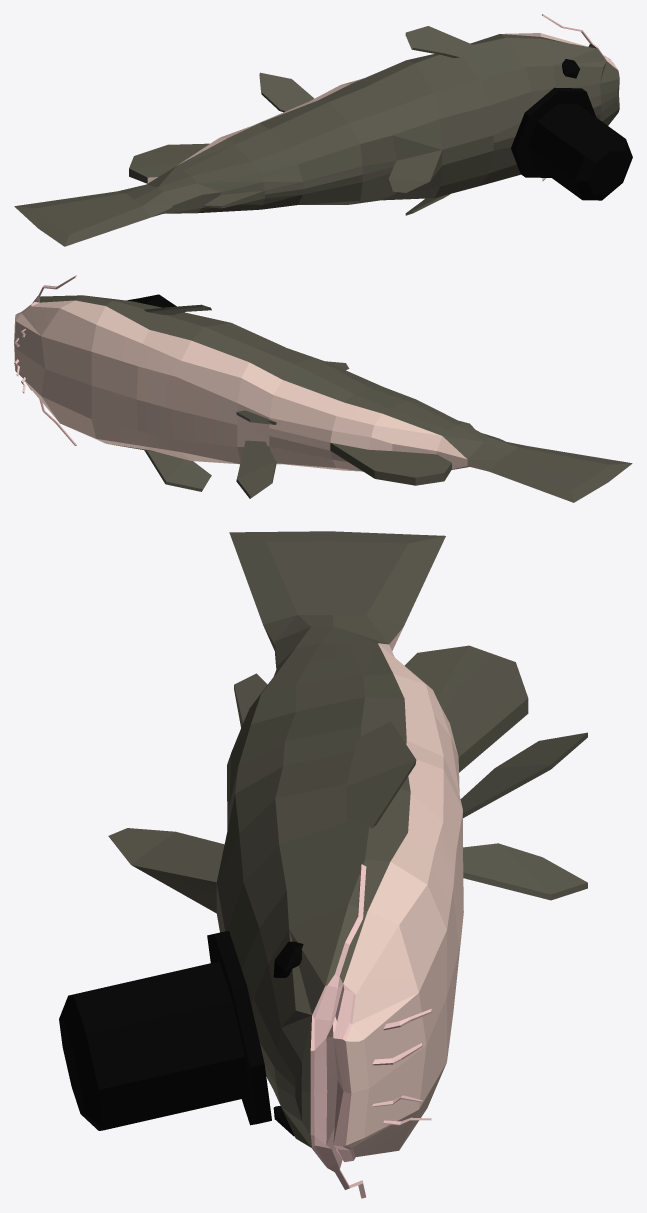
The model's file is CatfishDrip.glb.
3 views of the same model, one above another, from view 1: azimuth 30°, elevation 25°; view 2: azimuth 150°, elevation 25°; view 3: azimuth 270°, elevation 25° (orthographic). The views are drawn at different scales.
Parts seen in each view (by area): view 1: CatfishDrip; view 2: CatfishDrip; view 3: CatfishDrip.
Part boxes in pixels (x1,y1,x2,y2): CatfishDrip: [14, 14, 632, 246]; CatfishDrip: [14, 275, 632, 502]; CatfishDrip: [59, 531, 587, 1198].
Size of the model in its own units: 0.8839 by 0.2686 by 0.3515.
Materials: 1 (1 with a texture image).
